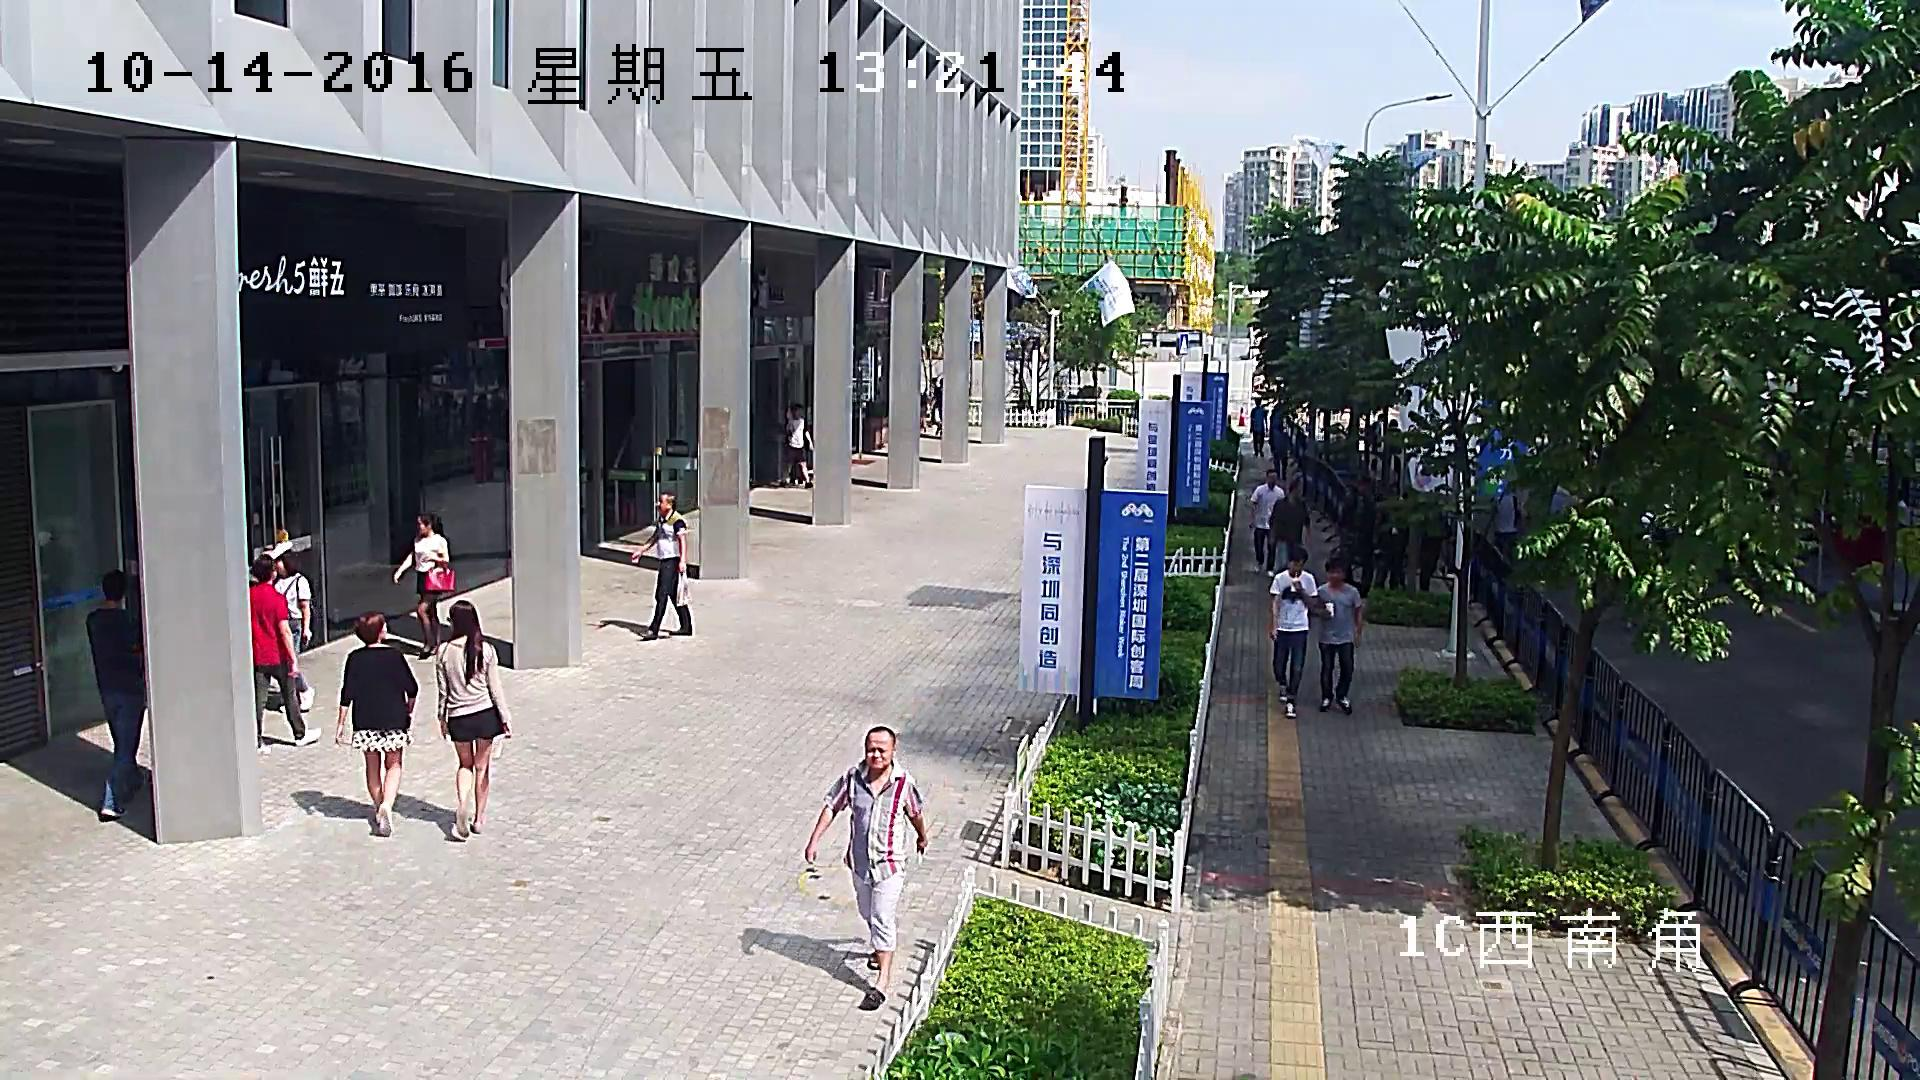person: (805, 727, 927, 1010), (435, 600, 511, 837), (336, 611, 417, 835), (85, 569, 144, 817), (249, 554, 322, 753), (631, 490, 692, 637), (393, 513, 454, 658), (1269, 547, 1318, 718), (269, 540, 316, 714), (1311, 559, 1363, 714), (1267, 483, 1310, 576), (1341, 480, 1374, 596), (1249, 469, 1285, 573), (779, 403, 812, 488), (1374, 515, 1404, 592), (1493, 480, 1519, 564), (1419, 530, 1441, 593), (1289, 431, 1307, 498), (1250, 398, 1268, 457), (1271, 424, 1288, 480), (1385, 419, 1400, 471), (1371, 413, 1383, 470), (929, 378, 942, 422)
